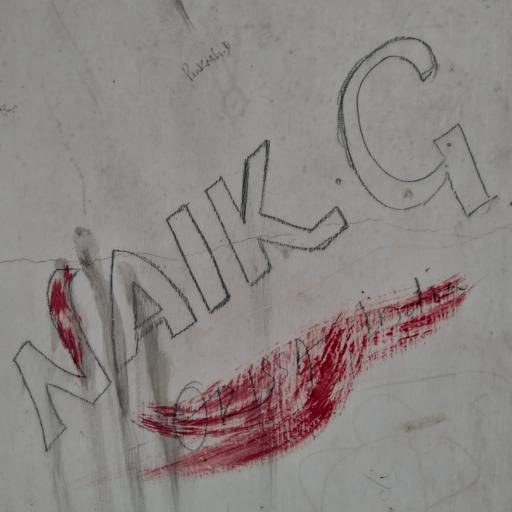stain: (19, 156, 486, 481), (323, 34, 512, 246), (164, 16, 258, 134)
